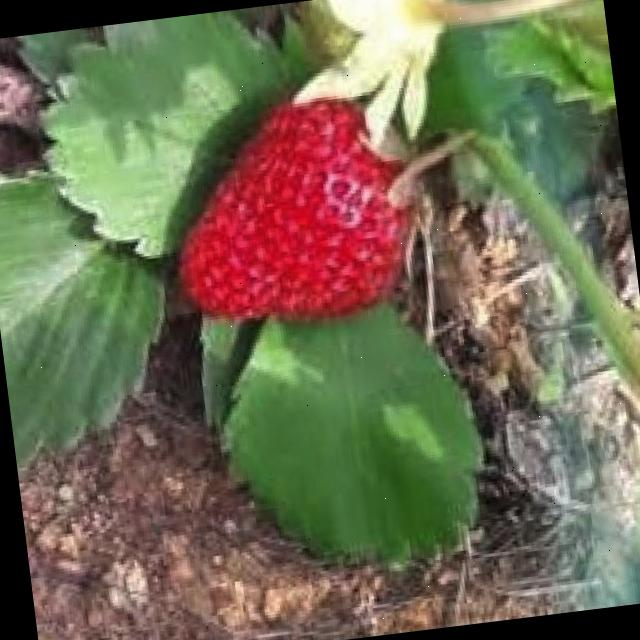strawberry: (162, 88, 424, 336)
